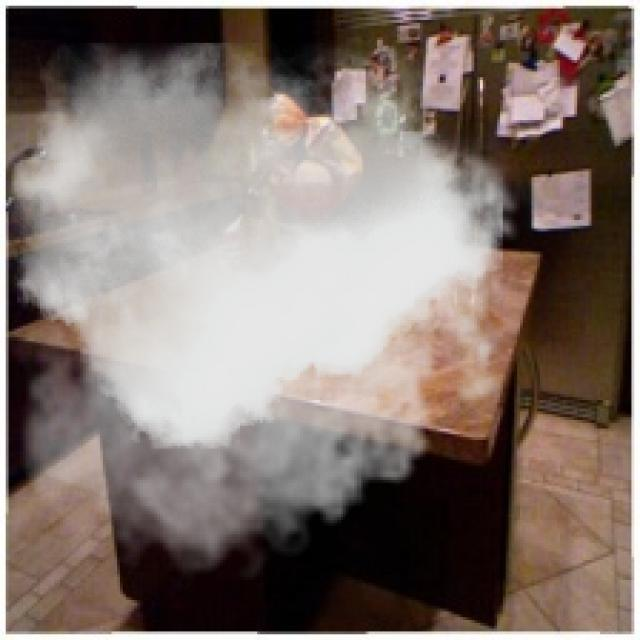Smoke: (8, 42, 534, 592)
